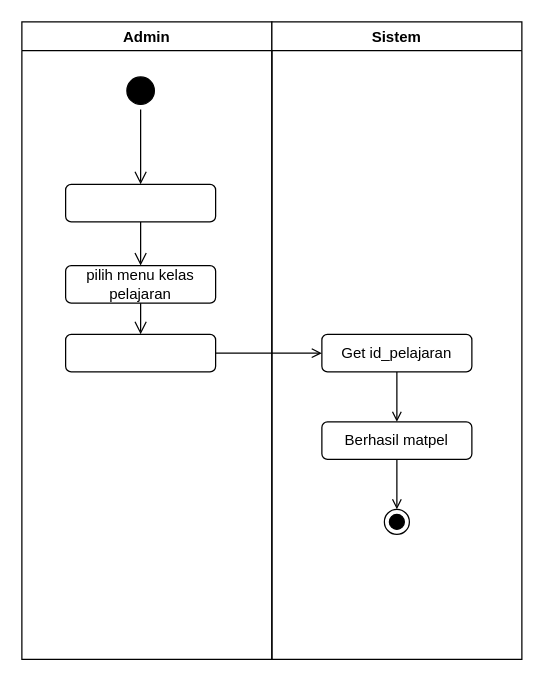
This 544x681 diagram has some shape labels left out. The centre of each missing label's shape, as x and y in pixels:
"admindashbord" goes at (140,202).
"Hapus Pelajaran" goes at (140,352).
